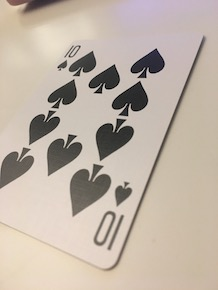TenOfSpades: (1, 34, 208, 272)
